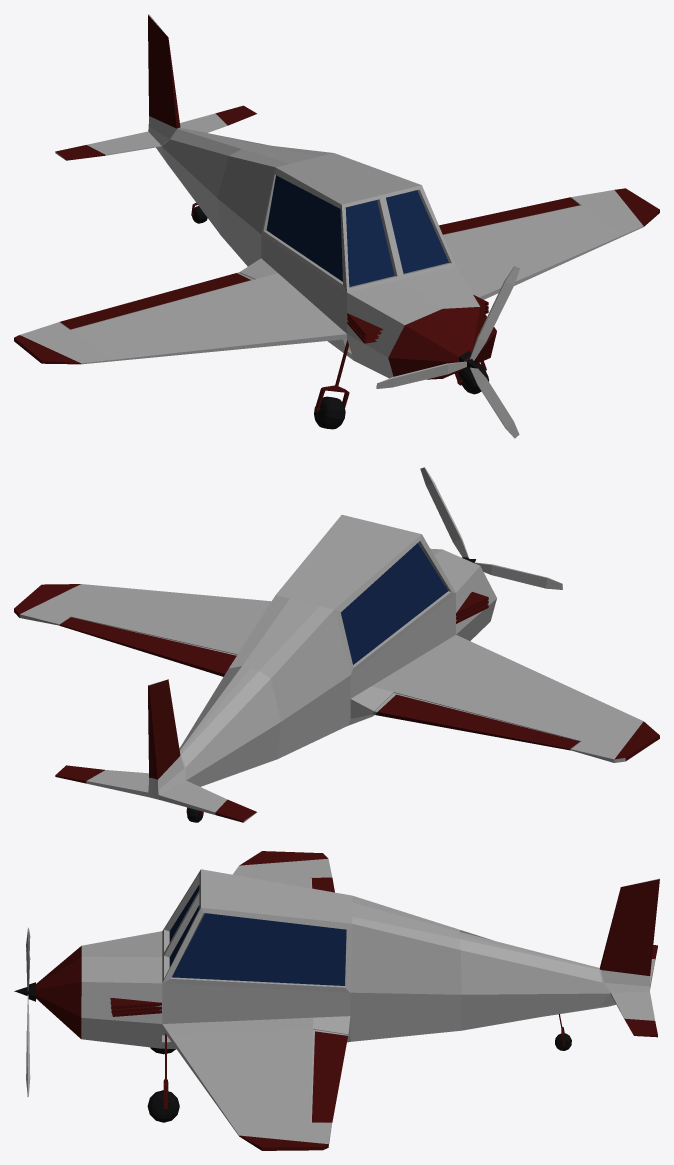
3 renders of one model, top to bottom at view 1: azimuth 30°, elevation 25°; view 2: azimuth 150°, elevation 25°; view 3: azimuth 270°, elevation 25°, orthographic.
Parts seen in each view (by area): view 1: Plane_Body_Cube2; view 2: Plane_Body_Cube2; view 3: Plane_Body_Cube2.
Part boxes in pixels (x1,y1,x2,y2): Plane_Body_Cube2: [14, 14, 659, 438]; Plane_Body_Cube2: [14, 467, 659, 822]; Plane_Body_Cube2: [14, 851, 659, 1150].
Size of the model in its own units: 869 by 285 by 799.
